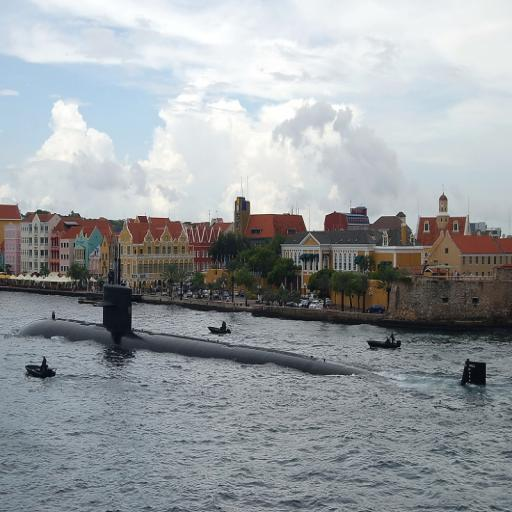submarine: (27, 281, 490, 388)
